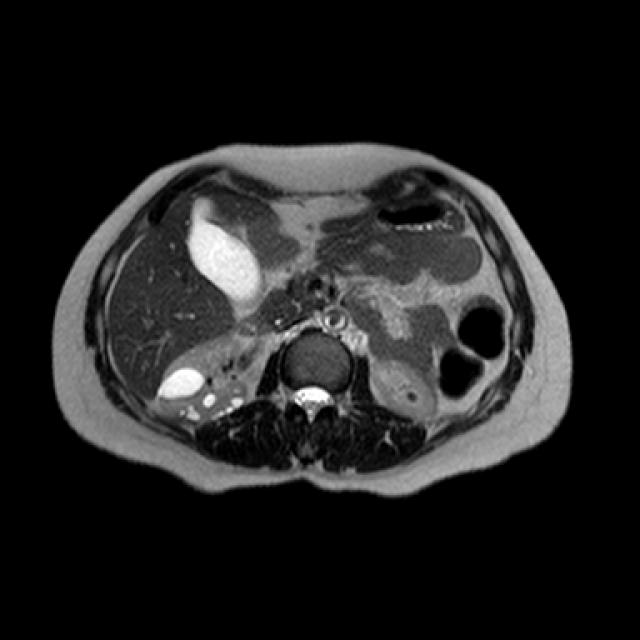sag: (157, 331, 249, 420)
sol: (375, 360, 439, 420)
